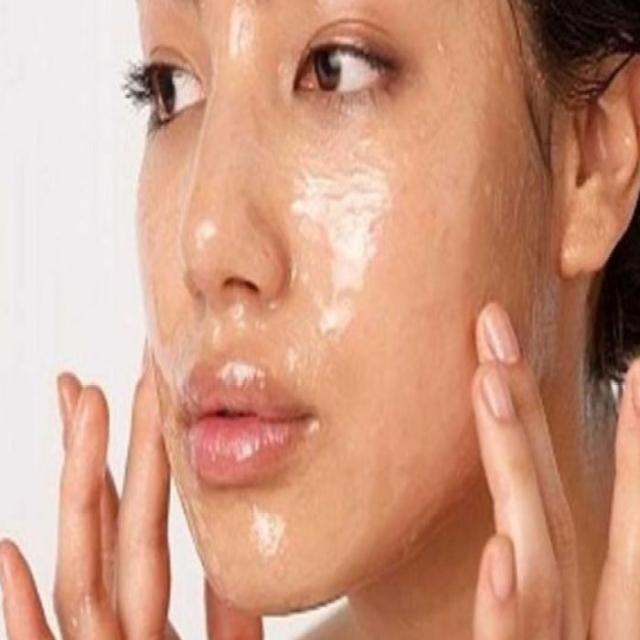Oily-Skin: (303, 120, 464, 382), (199, 502, 340, 590), (195, 100, 232, 270)
